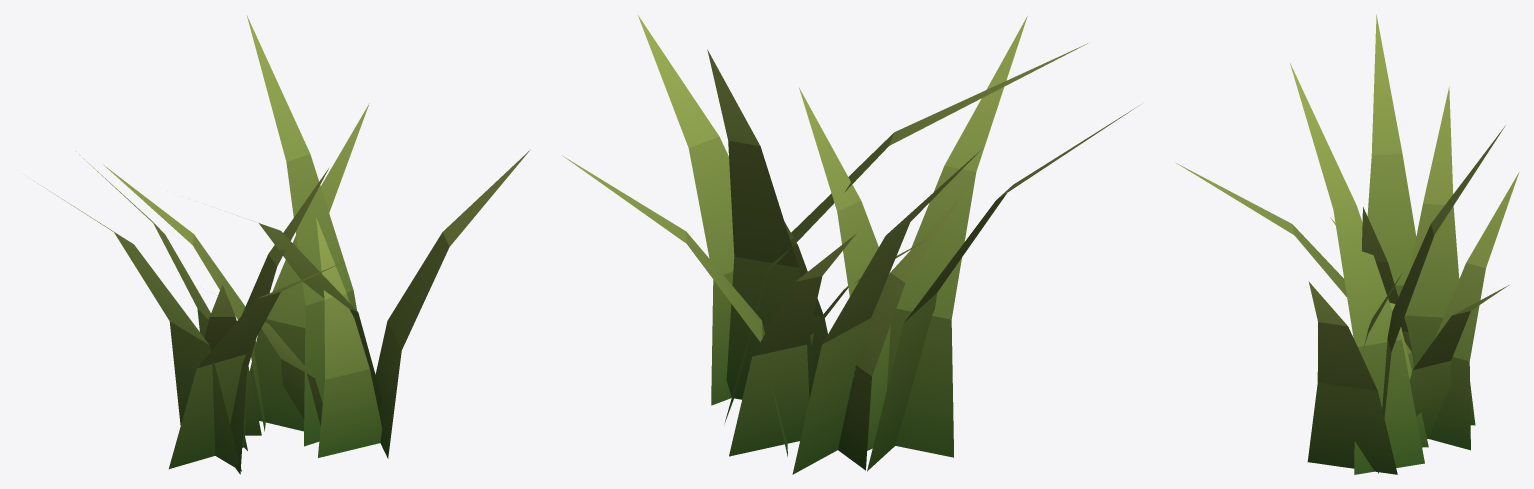
The picture shows the model from 3 angles, left to right: view 1: azimuth 30°, elevation 25°; view 2: azimuth 150°, elevation 25°; view 3: azimuth 270°, elevation 25°; orthographic projection. The views are drawn at different scales.
Visible parts, largest first — view 1: grass_a_leaf; view 2: grass_a_leaf; view 3: grass_a_leaf.
Boxes of the visible parts, x1,y1,x2,y2 form: grass_a_leaf: [34, 15, 530, 474]; grass_a_leaf: [562, 15, 1139, 474]; grass_a_leaf: [1175, 14, 1519, 474].
Bounding box in the file's own units: 0.7359 × 0.5424 × 0.5218.
